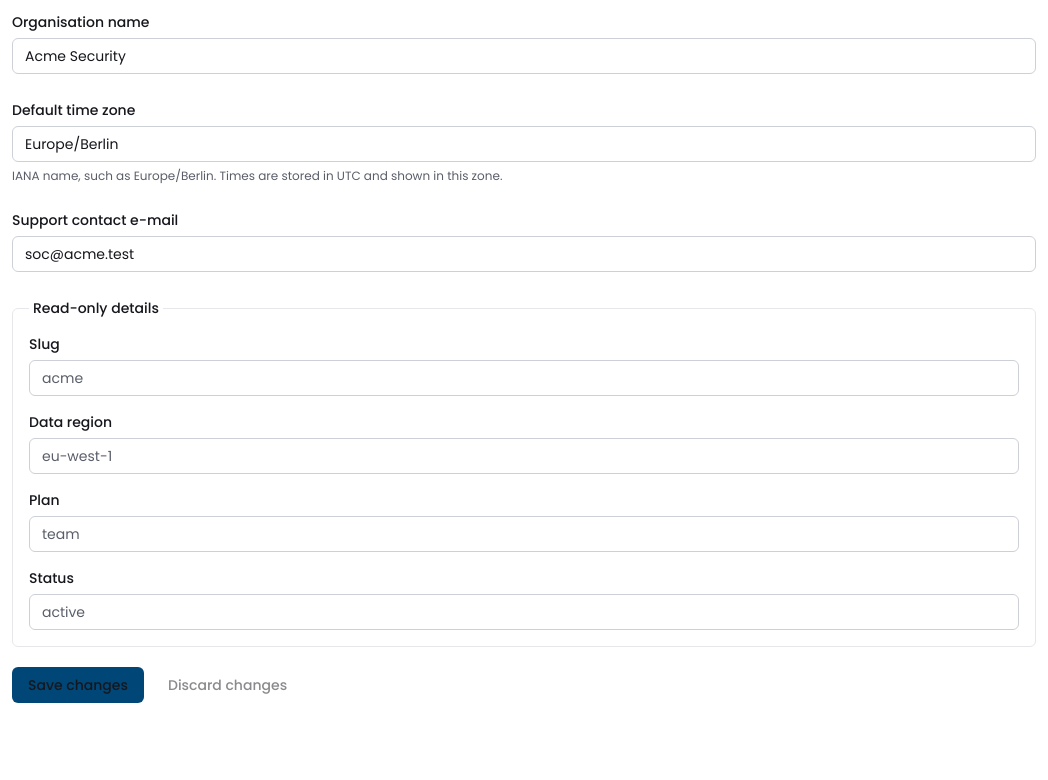
Test: OrgSettingsForm › rejects a time zone that is not an IANA name, before anything is sent
Replace the text in the field labelled "Default time zone" with "Mars/Olympus": x=524, y=144 [12,126,1036,162]
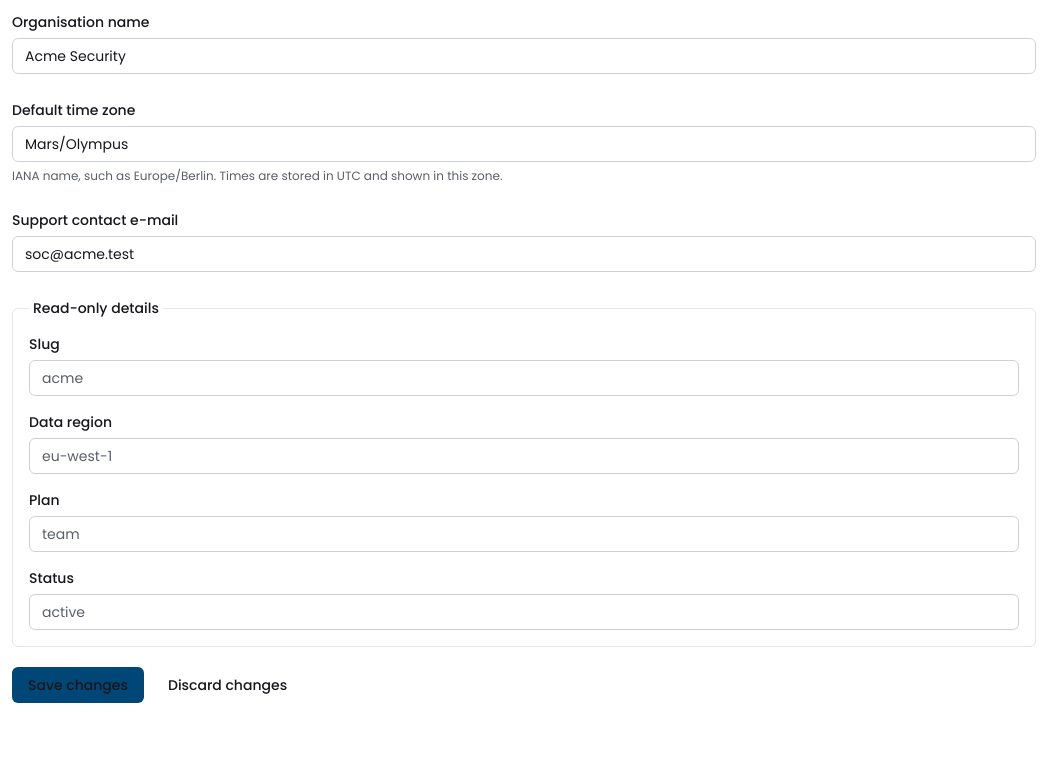
Click the button "Save changes": x=78, y=685 [12,667,144,703]
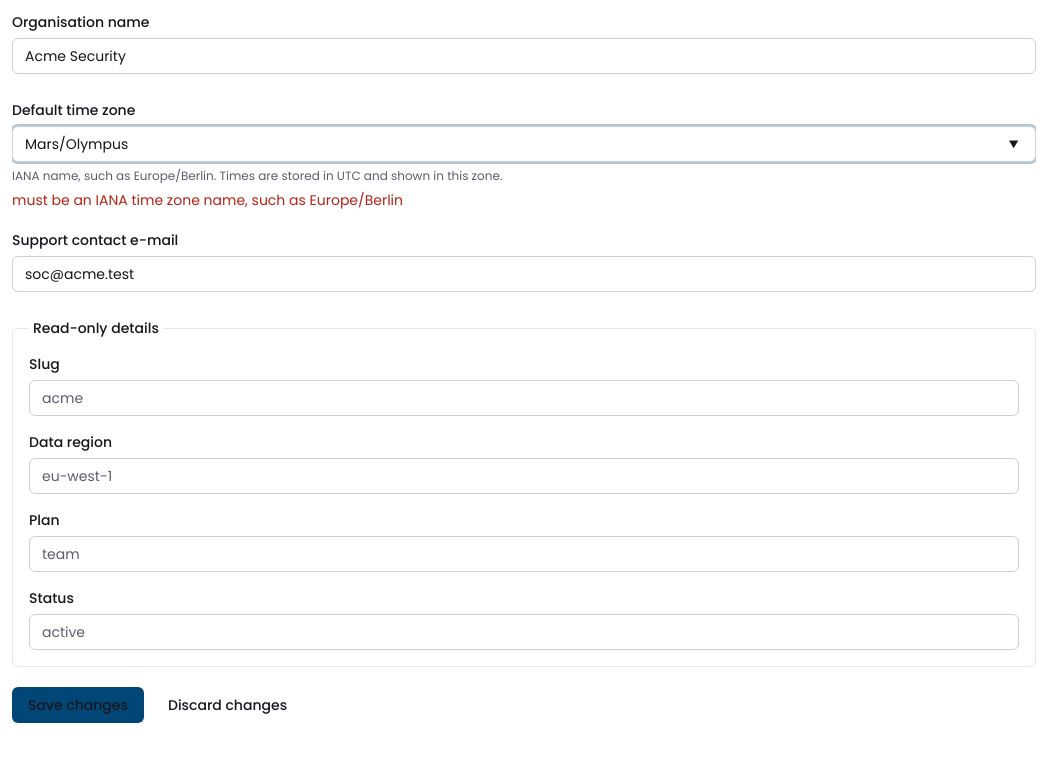
Expected: the text "must be an IANA time zone name, such as Europe/Berlin" is shown, [12,190,403,210]
